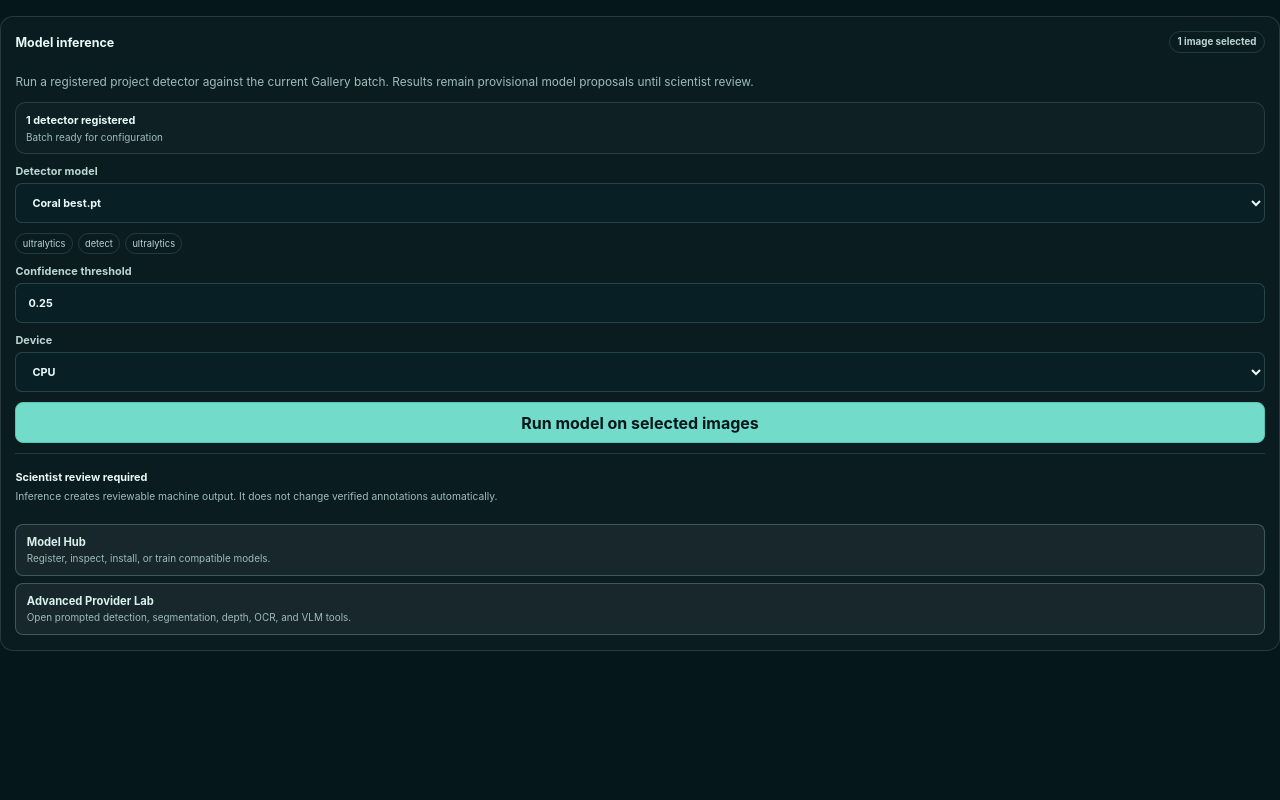
Test case: ProjectInferenceInspector › runs the existing project inference API for the Gallery selection
The width and height of the screenshot is (1280, 800).
Check: the text "1 detector registered" is shown, box x1=26 y1=112 x2=135 y2=126
Check: the dropdown labelled "Detector model" shows "Coral best.pt", box x1=15 y1=183 x2=1265 y2=223
Step 1. Click the button "Run model on selected images" → (640, 423), box x1=15 y1=402 x2=1265 y2=443
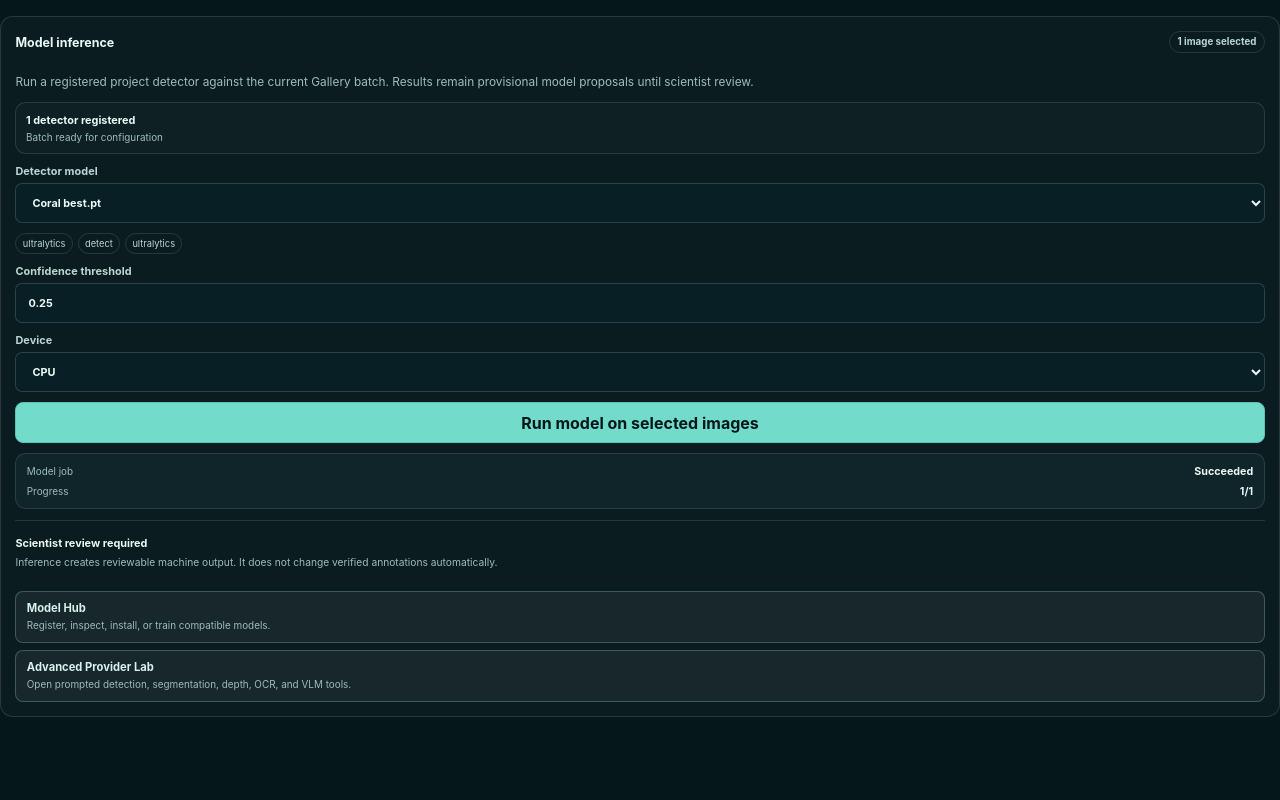
Check: the text "succeeded" is shown, box x1=1194 y1=465 x2=1253 y2=478
Check: the text "1/1" is shown, box x1=1240 y1=485 x2=1253 y2=498
